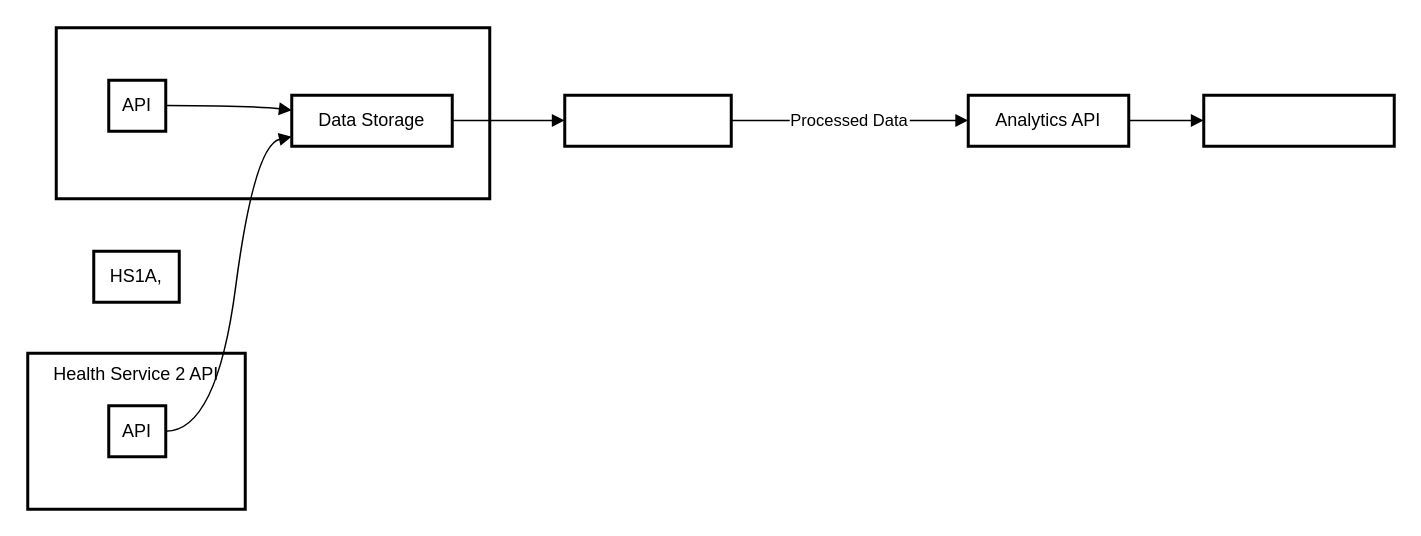
The diagram is 1421 pixels wide and 536 high, and some of its shapes have lost their labels. The box of each missing label's shape, as (x1, y1, x2, y2) in pixels:
Analytics Client: (1202, 93, 1395, 147)
Data Pipeline: (562, 93, 732, 147)
Health Service 1 API: (54, 26, 490, 200)
